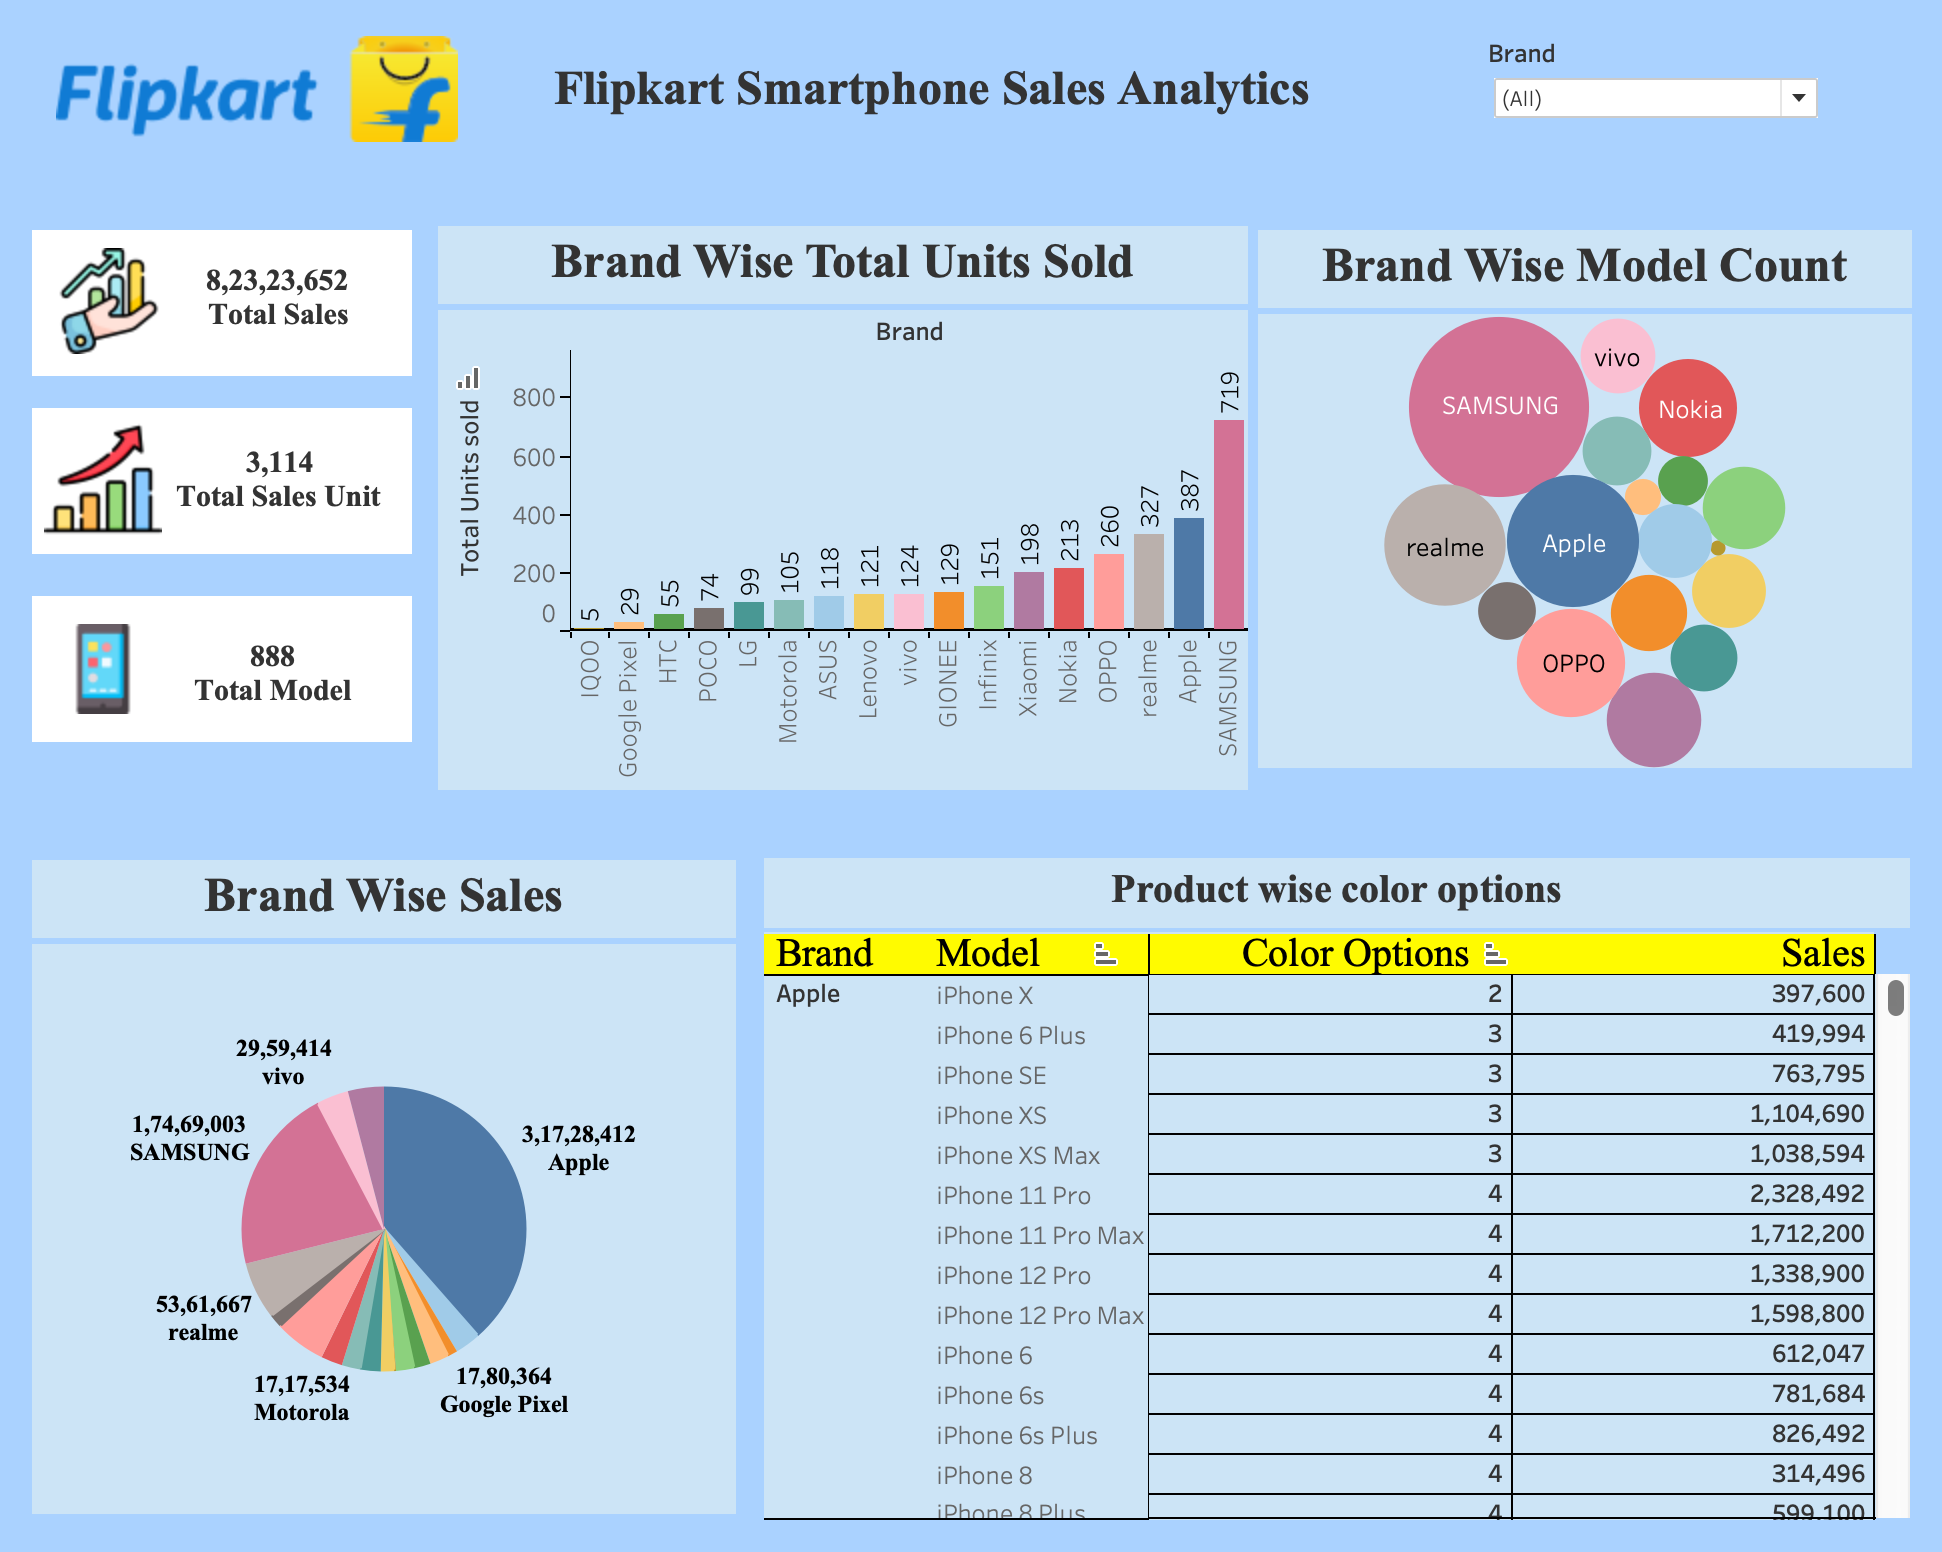

This screenshot's page, from the dashboard's own definition file:
{"tool":"tableau","page":{"name":"Flipkart Dashboard","canvas":[1000,800],"ordinal":0},"visuals":[{"type":"image","box":[8,8,984,784]},{"type":"title","box":[245,29,472,55]},{"type":"image","param":"Image/flipkart.svg","box":[43,30,302,53]},{"type":"filter","title":"Brand Wise Total Units Sold","param":"[federated.0cyi8fz0mu0fs417hrte71pyxy8u].[none:Brand:nk]","box":[759,30,168,52]},{"type":"blank","box":[33,33,201,71]},{"type":"worksheet","title":"Brand Wise Total Units Sold","mark":"Automatic","rows":["Flipkart!Mobiles_A363F1B211B24D289C79A917DA036539"],"cols":["Brand"],"box":[234,125,405,282]},{"type":"blank","box":[31,127,190,73]},{"type":"worksheet","title":"Brand Wise Model Count","mark":"Circle","box":[644,127,327,269]},{"type":"image","param":"Image/sales.png","box":[43,136,53,58]},{"type":"worksheet","title":"Total Sales","mark":"Automatic","box":[114,144,101,48]},{"type":"blank","box":[31,216,190,73]},{"type":"worksheet","title":"Total units","mark":"Automatic","box":[95,220,126,65]},{"type":"image","param":"Image/growth.png","box":[37,222,59,61]},{"type":"blank","box":[31,310,190,73]},{"type":"worksheet","title":"models","mark":"Automatic","box":[102,317,113,62]},{"type":"image","param":"Image/smartphone.png","box":[42,322,52,49]},{"type":"worksheet","title":"Product wise color options","mark":"Text","rows":["Brand","Model"],"box":[397,441,573,331]},{"type":"worksheet","title":"Brand Wise Sales","mark":"Pie","box":[31,442,352,327]}]}

Visuals, with their boxes in screenshot pixels (x1, y1, x2, y2), scaled from the page's 1000x800 canvas onto the 1942x1552 screenshot:
image: <bbox>16, 16, 1926, 1536</bbox>
title: <bbox>476, 56, 1392, 163</bbox>
image: <bbox>84, 58, 670, 161</bbox>
"Brand Wise Total Units Sold" filter: <bbox>1474, 58, 1800, 159</bbox>
blank: <bbox>64, 64, 454, 202</bbox>
"Brand Wise Total Units Sold" worksheet: <bbox>454, 242, 1241, 790</bbox>
blank: <bbox>60, 246, 429, 388</bbox>
"Brand Wise Model Count" worksheet (Circle marks): <bbox>1251, 246, 1886, 768</bbox>
image: <bbox>84, 264, 186, 376</bbox>
"Total Sales" worksheet: <bbox>221, 279, 418, 372</bbox>
blank: <bbox>60, 419, 429, 561</bbox>
"Total units" worksheet: <bbox>184, 427, 429, 553</bbox>
image: <bbox>72, 431, 186, 549</bbox>
blank: <bbox>60, 601, 429, 743</bbox>
"models" worksheet: <bbox>198, 615, 418, 735</bbox>
image: <bbox>82, 625, 183, 720</bbox>
"Product wise color options" worksheet (Text marks): <bbox>771, 856, 1884, 1498</bbox>
"Brand Wise Sales" worksheet (Pie marks): <bbox>60, 857, 744, 1492</bbox>
